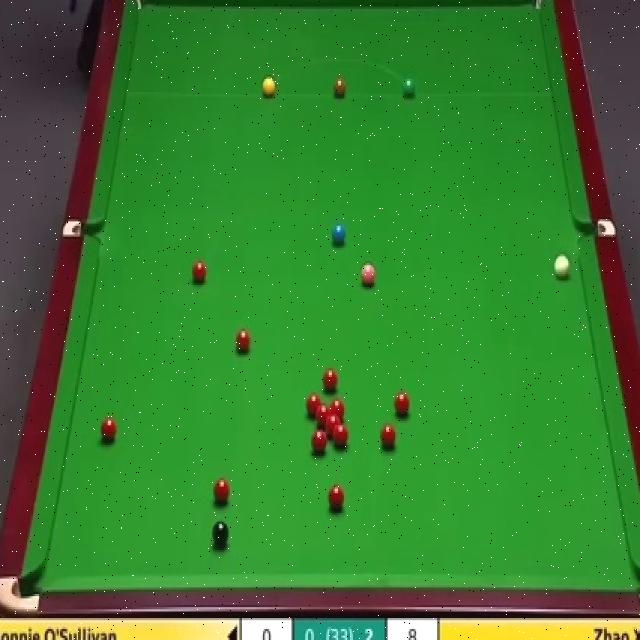black-ball: (212, 522, 230, 552)
blue-ball: (332, 221, 346, 247)
brown-ball: (334, 75, 346, 98)
green-ball: (401, 79, 416, 100)
pink-ball: (361, 262, 376, 286)
red-ball: (392, 390, 412, 420), (379, 422, 398, 452), (235, 328, 252, 358), (101, 414, 117, 444), (328, 483, 344, 512), (311, 428, 327, 456), (214, 478, 231, 504), (322, 368, 338, 395), (334, 423, 348, 449), (192, 259, 207, 283), (306, 393, 320, 418), (331, 399, 345, 421), (316, 404, 330, 425), (327, 415, 340, 435)
white-ball: (552, 253, 574, 288)
yellow-ball: (262, 77, 276, 99)
